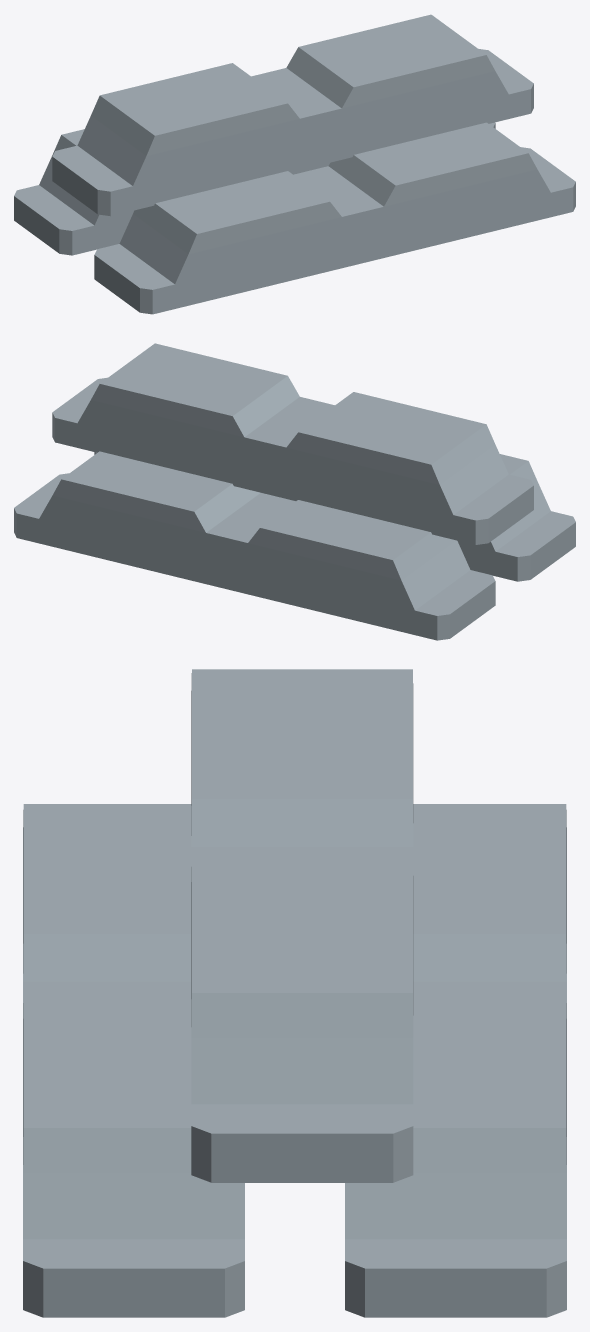
Rendered from SM_Aluminum_ingots.glb.
3 views of the same model, one above another, from view 1: azimuth 30°, elevation 25°; view 2: azimuth 150°, elevation 25°; view 3: azimuth 270°, elevation 25° (orthographic). The views are drawn at different scales.
Parts seen in each view (by area): view 1: SM_Aluminum_ingots; view 2: SM_Aluminum_ingots; view 3: SM_Aluminum_ingots.
Part boxes in pixels (left/top/right/bottom): SM_Aluminum_ingots: left=14, top=14, right=575, bottom=314; SM_Aluminum_ingots: left=14, top=343, right=575, bottom=640; SM_Aluminum_ingots: left=23, top=669, right=566, bottom=1317.
Size of the model in its own units: 0.5 by 0.15 by 0.27.
1 material, 1 textured.
